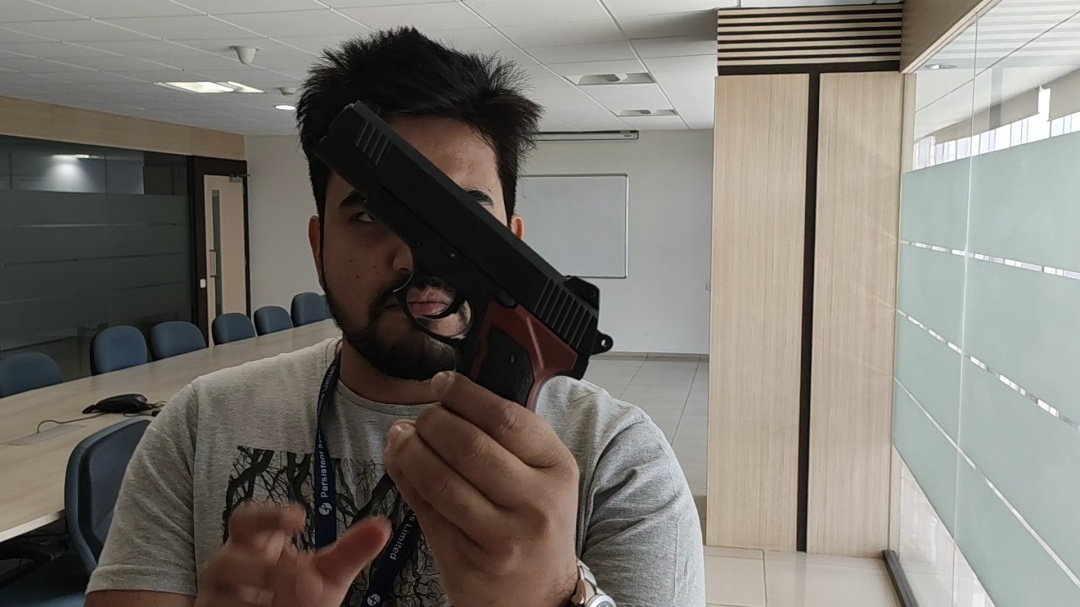gun: (322, 102, 615, 414)
